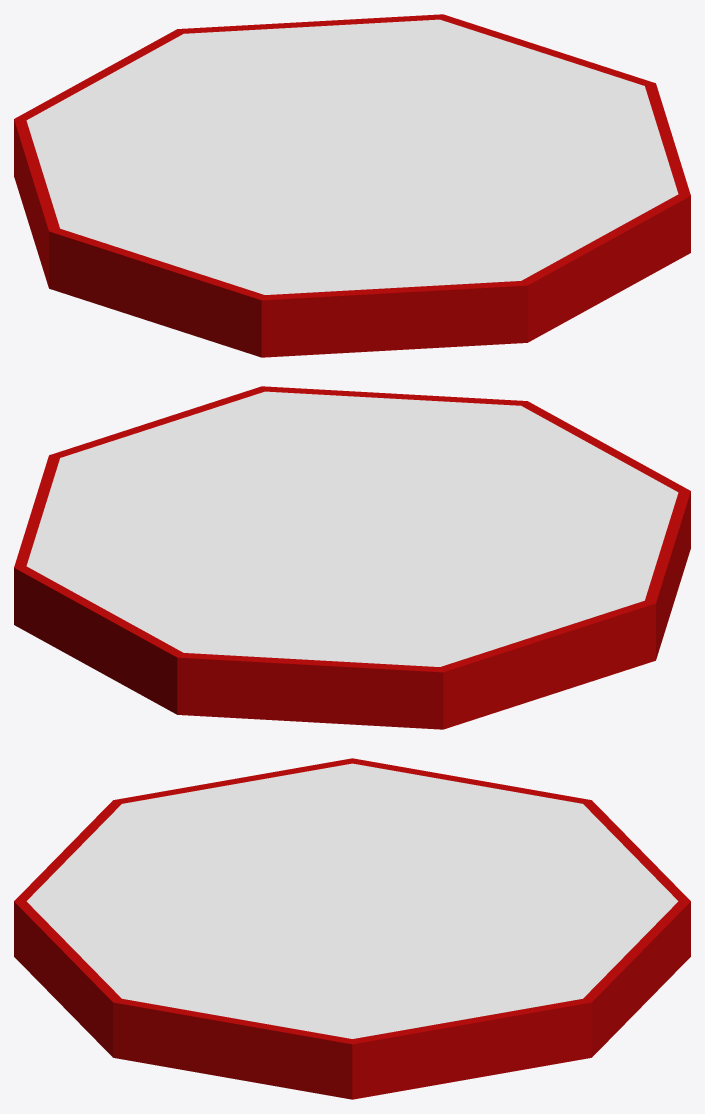
File: radish03.gltf
The picture shows the model from 3 angles, top to bottom: view 1: azimuth 30°, elevation 25°; view 2: azimuth 150°, elevation 25°; view 3: azimuth 270°, elevation 25°; orthographic projection. The views are drawn at different scales.
Parts seen in each view (by area): view 1: Cylinder; view 2: Cylinder; view 3: Cylinder.
Part boxes in pixels (x1=…): Cylinder: x1=14, y1=14, x2=690, y2=357; Cylinder: x1=14, y1=386, x2=690, y2=729; Cylinder: x1=14, y1=758, x2=690, y2=1099.
Size of the model in its own units: 0.0594 by 0.00535 by 0.0594.
Materials: 1 (1 with a texture image).
